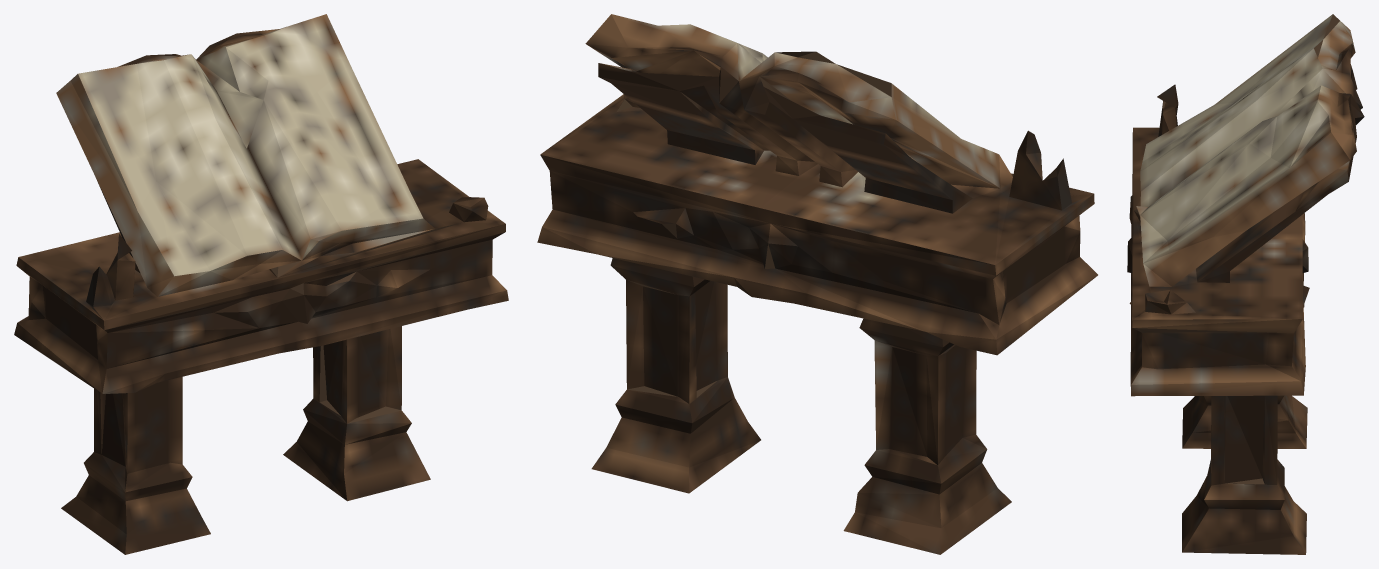
File: SM_MeshyLectern.fbx
3 renders of one model, left to right at view 1: azimuth 30°, elevation 25°; view 2: azimuth 150°, elevation 25°; view 3: azimuth 270°, elevation 25°, orthographic. The views are drawn at different scales.
Parts seen in each view (by area): view 1: SM_MeshyLectern; view 2: SM_MeshyLectern; view 3: SM_MeshyLectern.
Part boxes in pixels (x1,y1,x2,y2): SM_MeshyLectern: (14,14,508,554); SM_MeshyLectern: (537,14,1097,554); SM_MeshyLectern: (1127,14,1364,554).
Size of the model in its own units: 1.3 by 1.28 by 0.6718.
1 material, 1 textured.
